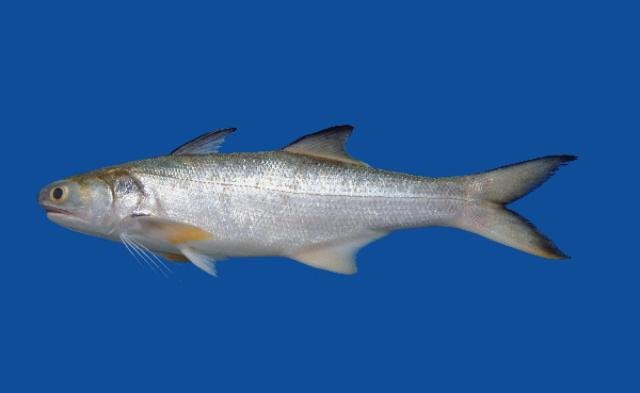Mulut: (24, 174, 94, 240)
Sirip Anal: (266, 218, 394, 284)
Sirip Dada: (126, 208, 222, 248)
Sirip Ekor: (438, 146, 592, 268)
Sirip Perut: (172, 239, 224, 282)
Sirip Punggung: (156, 110, 388, 182)
